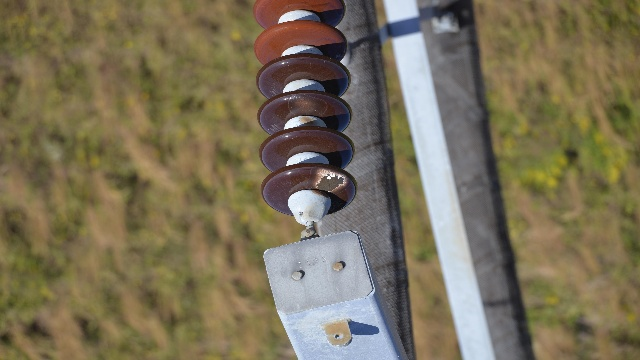insulator_unspecified: (251, 0, 357, 217)
pollution_flashover_local: (285, 92, 330, 121), (313, 167, 347, 197)
